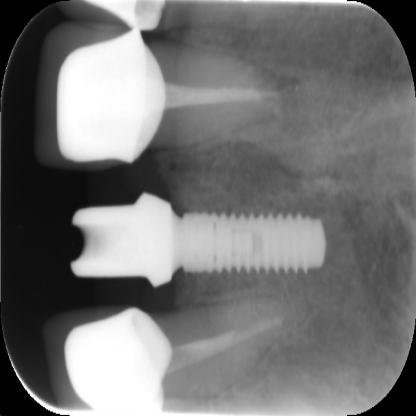ITI: (176, 209, 332, 271)
